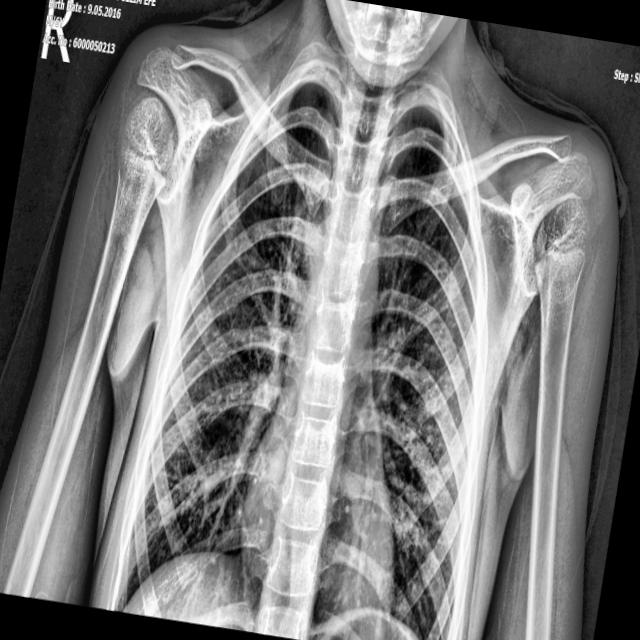Fracture: (227, 47, 249, 93)
